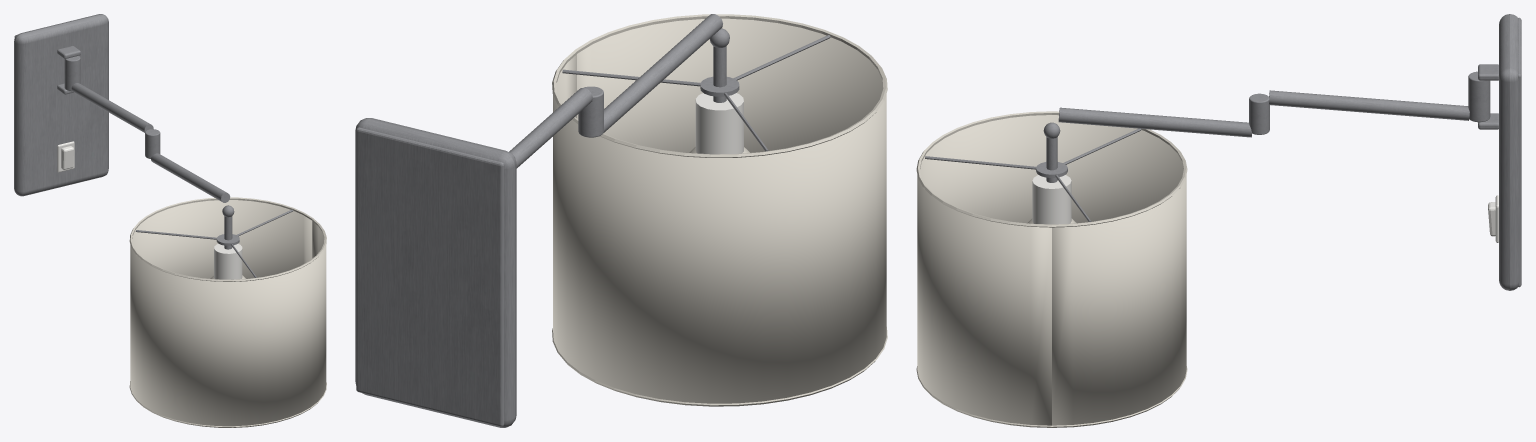
The model's file is hotel-swing-arm-sconce.glb.
3 renders of one model, left to right at view 1: azimuth 30°, elevation 25°; view 2: azimuth 150°, elevation 25°; view 3: azimuth 270°, elevation 25°, orthographic. The views are drawn at different scales.
Parts seen in each view (by area): view 1: sconce_arm, nickel_brushed; view 2: sconce_arm, nickel_brushed; view 3: sconce_arm, nickel_brushed.
Part boxes in pixels (box(x1,y1,x2,y2)): sconce_arm: box(64, 55, 326, 427); nickel_brushed: box(14, 14, 108, 196); sconce_arm: box(509, 14, 887, 406); nickel_brushed: box(355, 118, 516, 427); sconce_arm: box(916, 71, 1490, 427); nickel_brushed: box(1478, 14, 1521, 290).
Size of the model in its own units: 0.2212 by 0.297 by 0.4938.
Materials: 3 (1 with a texture image).
